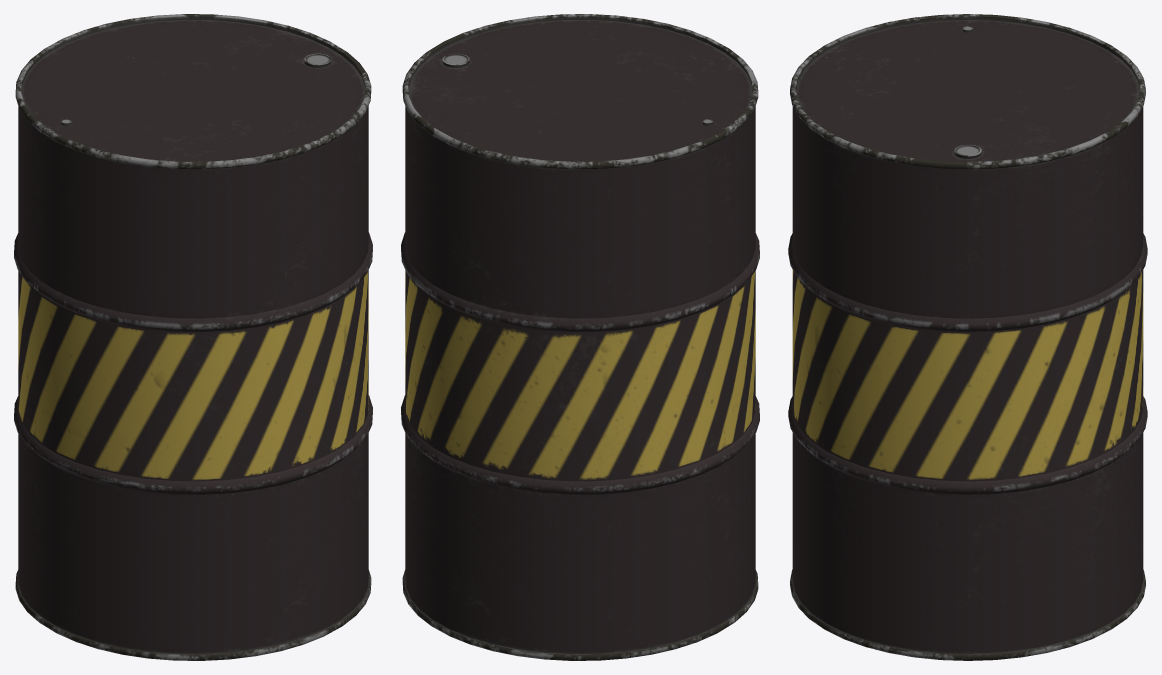
The model's file is SM_Barrel_02.fbx.
3 views of the same model, side by side, from view 1: azimuth 30°, elevation 25°; view 2: azimuth 150°, elevation 25°; view 3: azimuth 270°, elevation 25° (orthographic).
Visible parts, largest first — view 1: SM_Barrel_02_LOD0; view 2: SM_Barrel_02_LOD0; view 3: SM_Barrel_02_LOD0.
Boxes of the visible parts, x1,y1,x2,y2 form: SM_Barrel_02_LOD0: (14,14,372,660); SM_Barrel_02_LOD0: (401,14,759,660); SM_Barrel_02_LOD0: (788,14,1147,660).
Bounding box in the file's own units: 63.93 × 63.93 × 97.91.
1 material, 1 textured.
